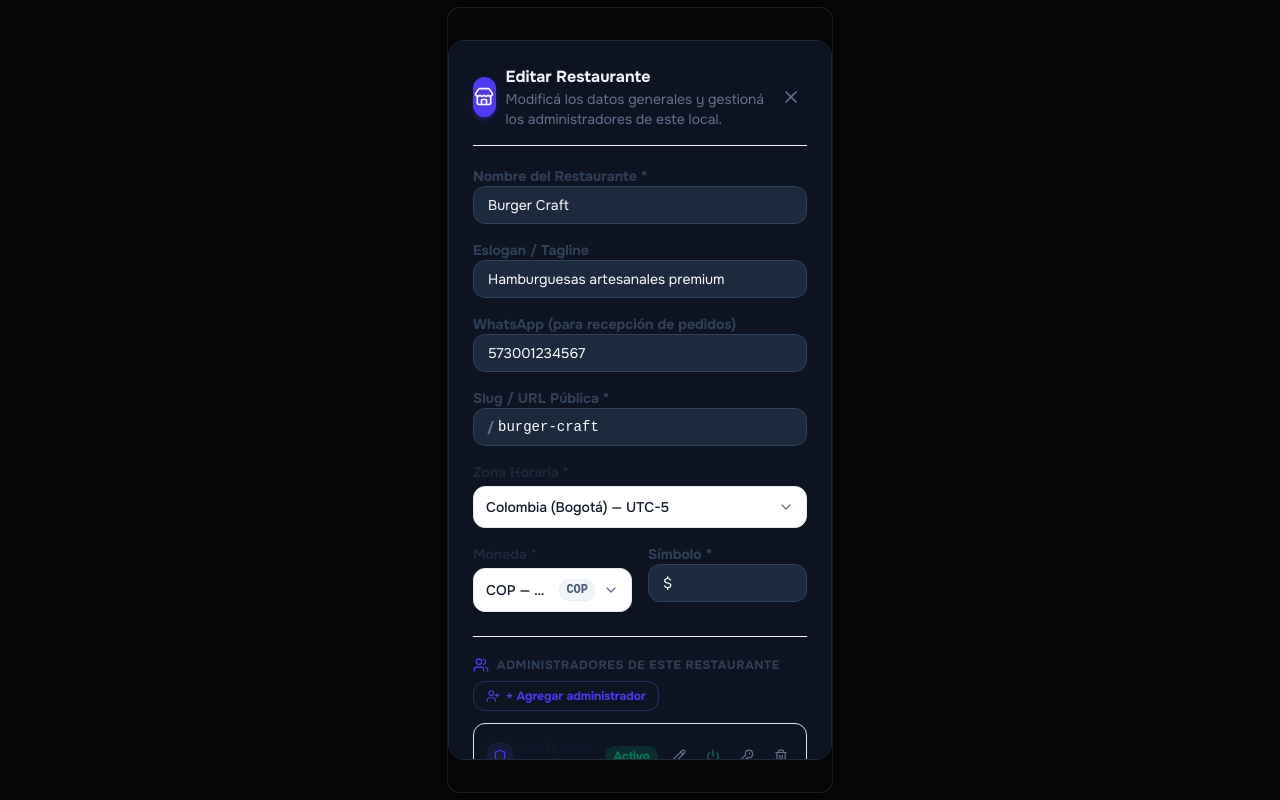
Test: EditRestaurantModal (TDD) › opens CreateUserModal with prefilled restaurant when clicking '+ Agregar administrador'
Expected: the text "craft_manager" is shown, [524,737,590,760]
Click the button "+ Agregar administrador" at (566, 696), box [473,681,659,711]
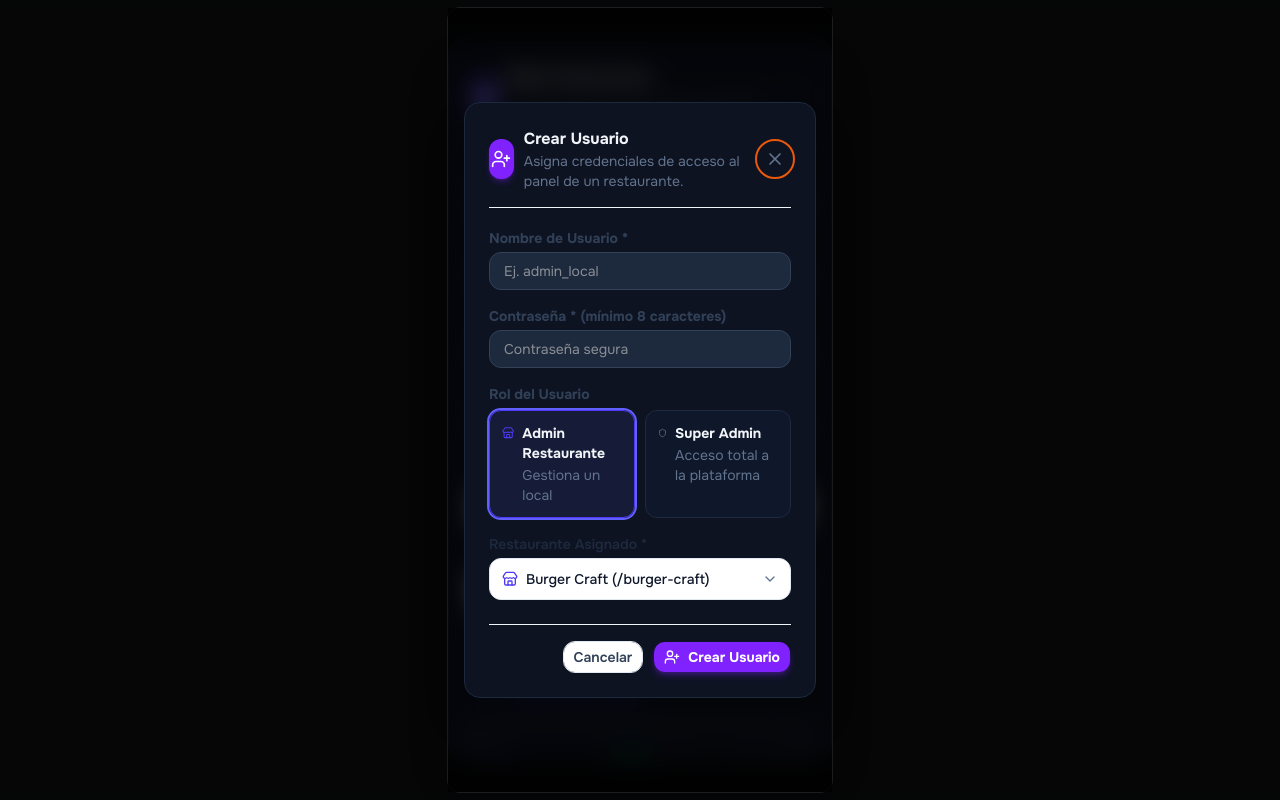
Expected: the heading "Crear Usuario" is shown, [524,128,629,149]
Expected: the label showing "Burger Craft (/burger-craft)" is shown, [489,535,647,553]
